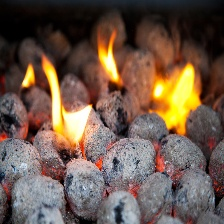fire: (17, 55, 97, 147), (152, 57, 207, 134), (93, 26, 128, 87)
